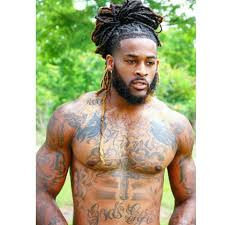black_male: (78, 11, 167, 104)
